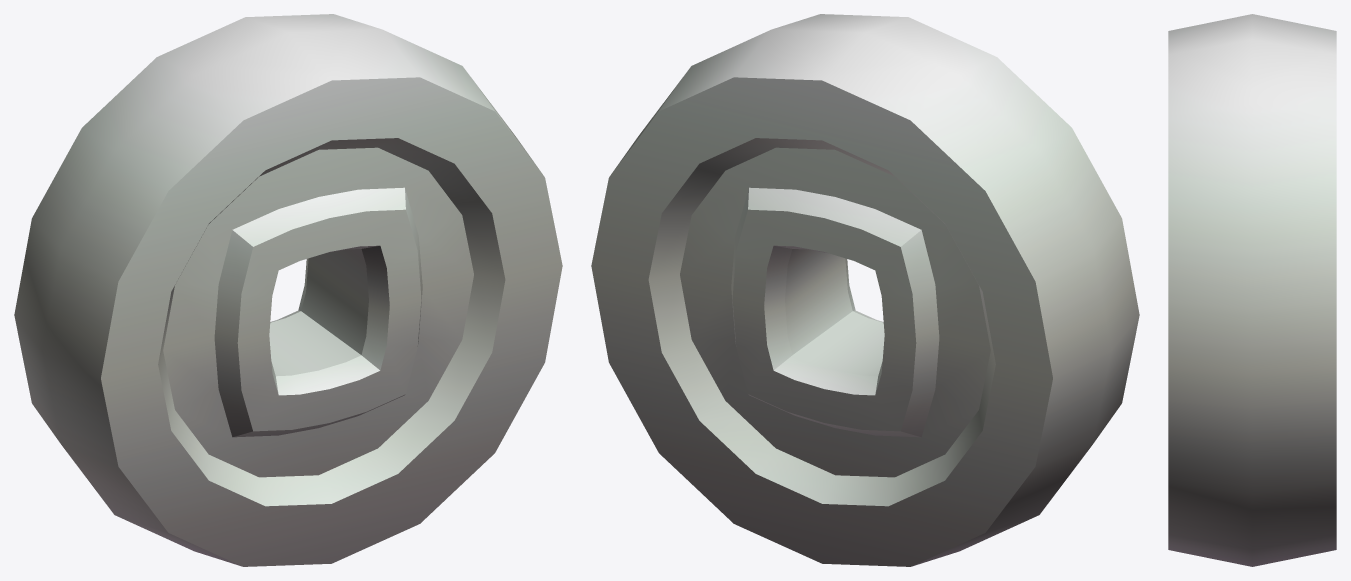
The model's file is Silver_Hole_Coin_03.glb.
3 views of the same model, side by side, from view 1: azimuth 30°, elevation 25°; view 2: azimuth 150°, elevation 25°; view 3: azimuth 270°, elevation 25° (orthographic). The views are drawn at different scales.
Visible parts, largest first — view 1: Silver_Hole_Coin_03; view 2: Silver_Hole_Coin_03; view 3: Silver_Hole_Coin_03.
Part boxes in pixels (bbox=[...]): Silver_Hole_Coin_03: bbox=[14, 14, 562, 566]; Silver_Hole_Coin_03: bbox=[591, 14, 1139, 566]; Silver_Hole_Coin_03: bbox=[1168, 14, 1336, 566].
Size of the model in its own units: 0.4853 by 0.4853 by 0.1478.
Materials: 1 (1 with a texture image).
